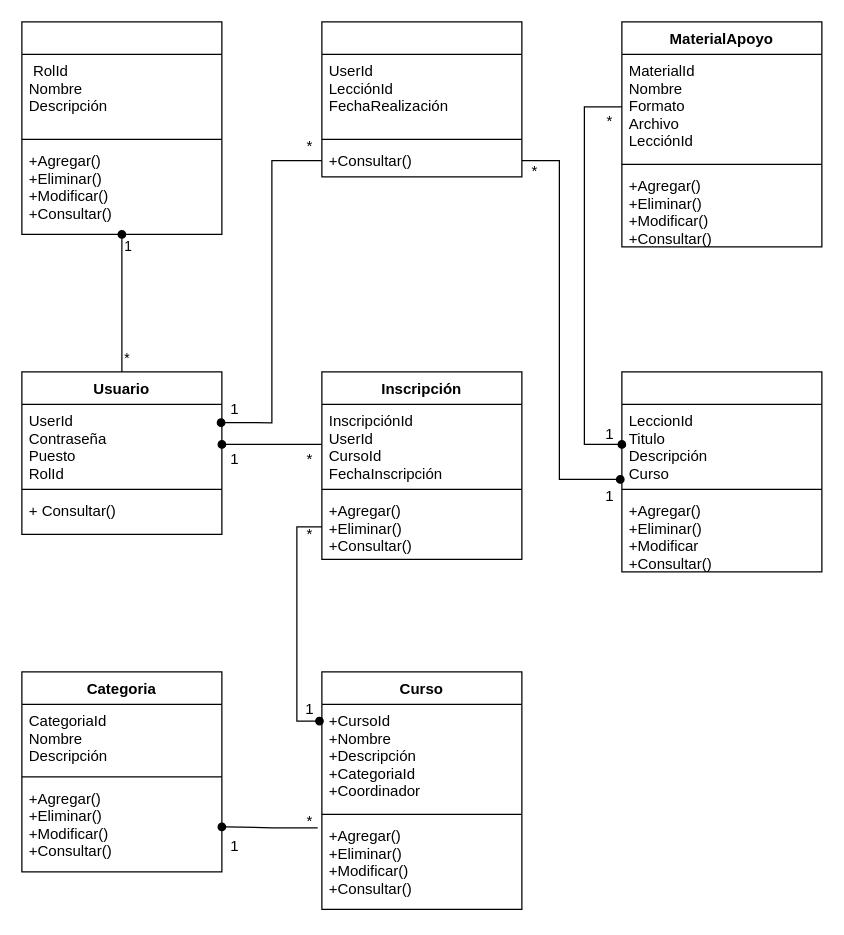
Some shapes in this 844 by 935 pixel diagram are drawn without their labels. The shapes that lost their labels are listed below. From the top down, each one's box as (x1, y1, x2, y2) in pixels, then its label:
(321, 21, 522, 177): Avance
(21, 21, 222, 234): Roles
(621, 371, 822, 572): Lecciones
